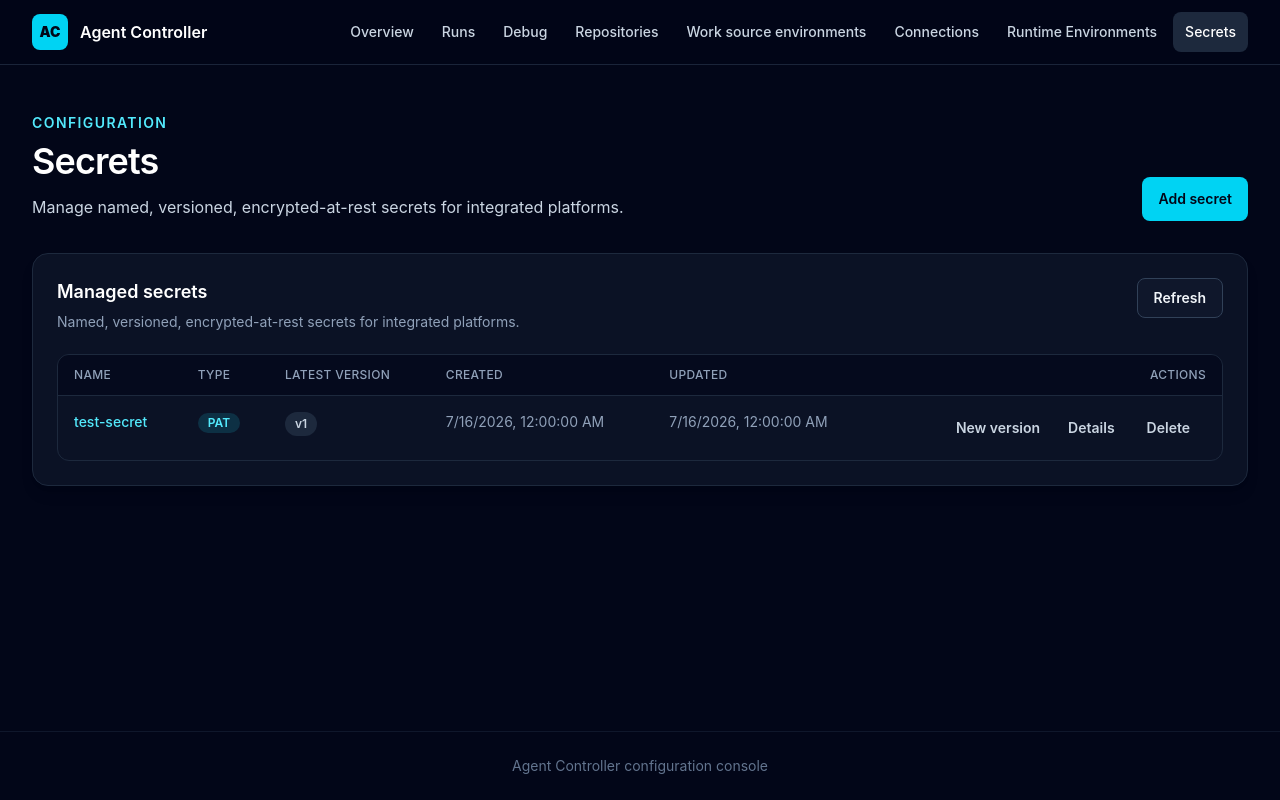
Test: secret screens › deletes a secret from the list only after confirmation
The image size is (1280, 800).
Click the button "Delete" at x=1168, y=428, box [1131,408,1206,448]
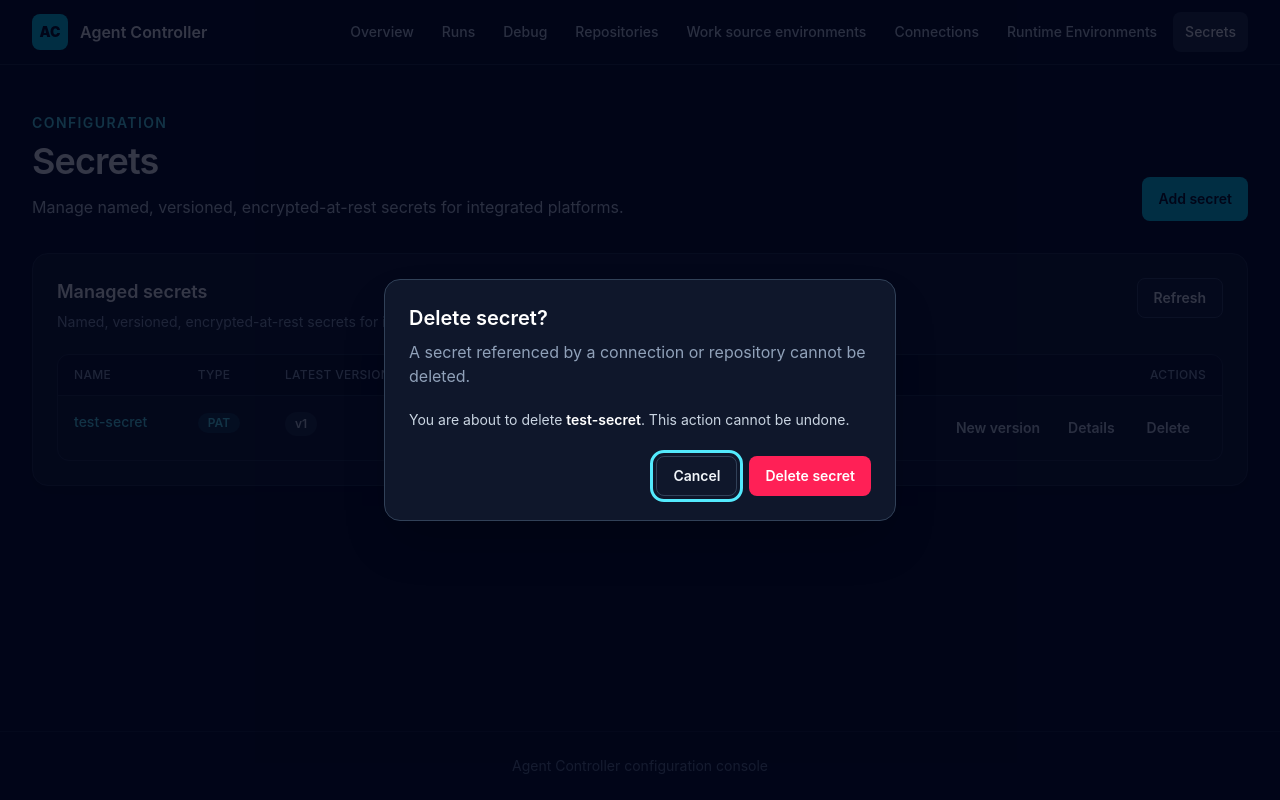
Click the button "Delete secret" at x=810, y=476, box [750,456,871,496]
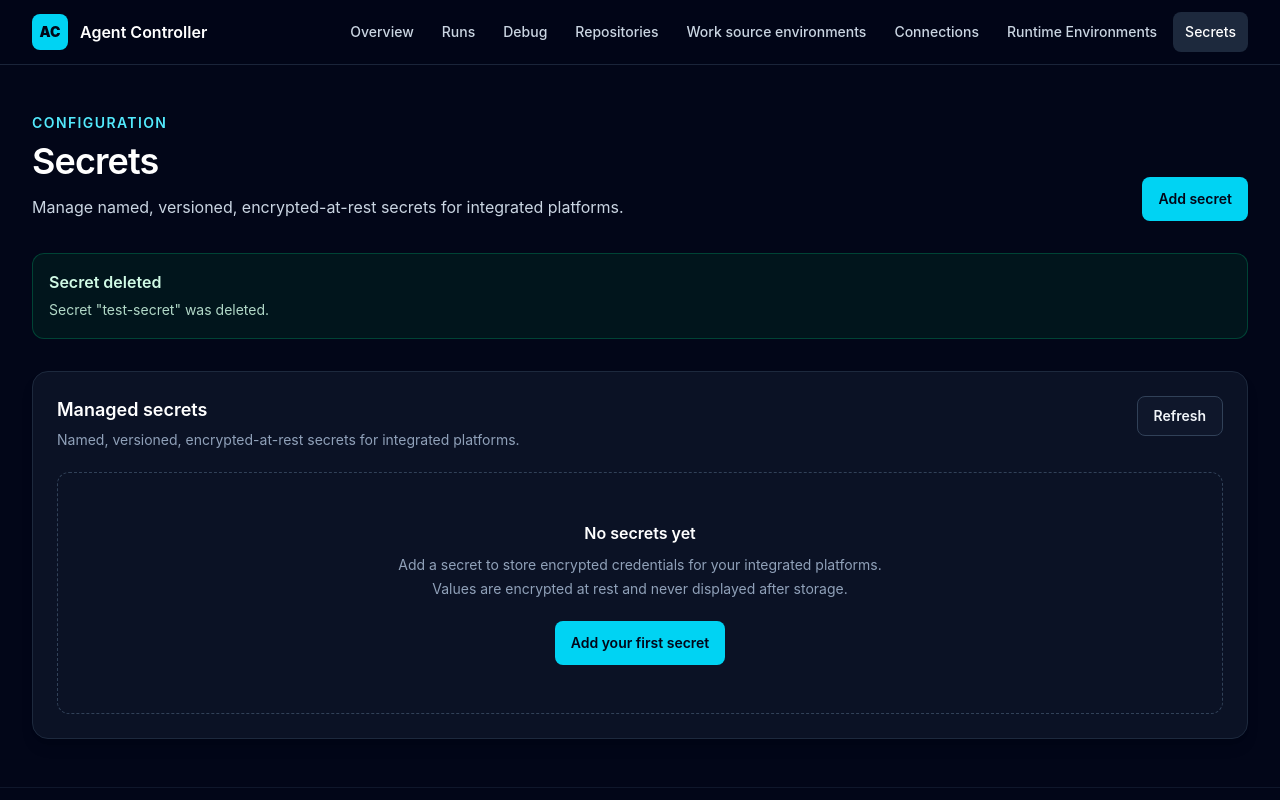
expect the text "Secret deleted" is shown: met, box [49,272,161,292]
expect the heading "No secrets yet" is shown: met, box [584,523,696,543]
